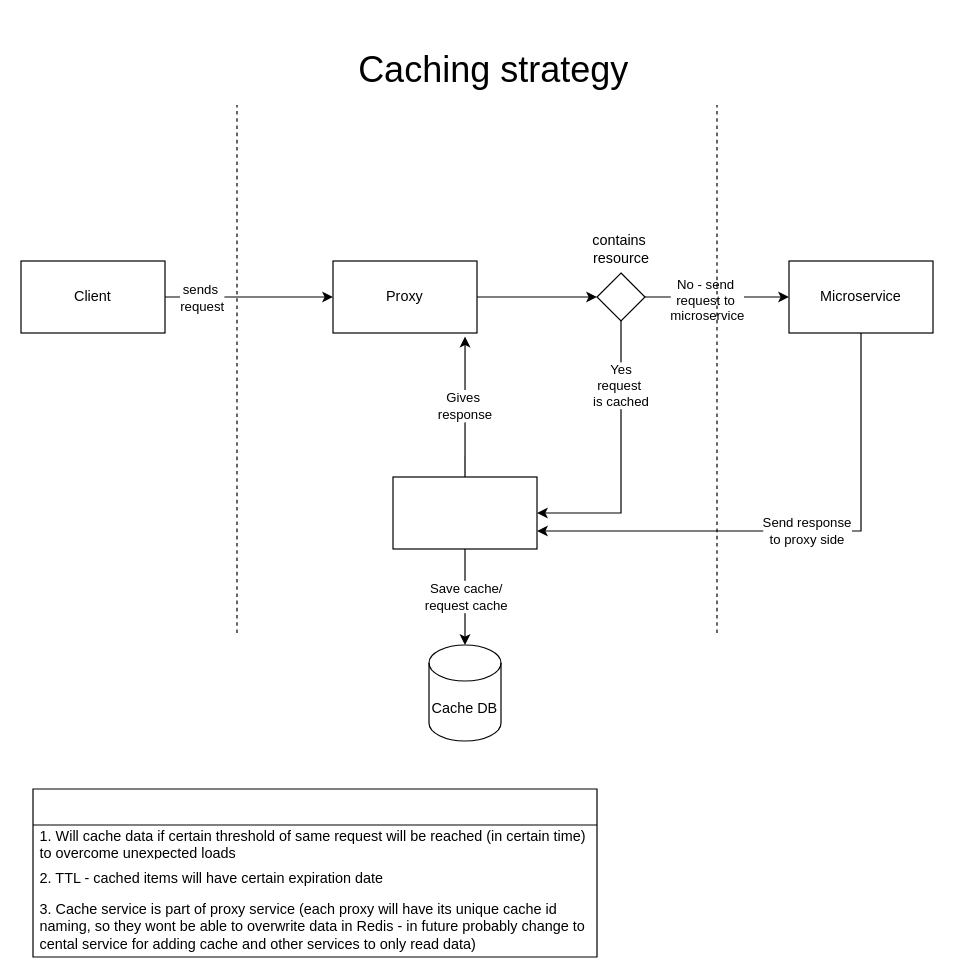
This 954x978 diagram has some shape labels left out. Each missing label, with the box of its shape:
Cache service: (392, 476, 537, 549)
Strategy: (32, 788, 597, 957)
